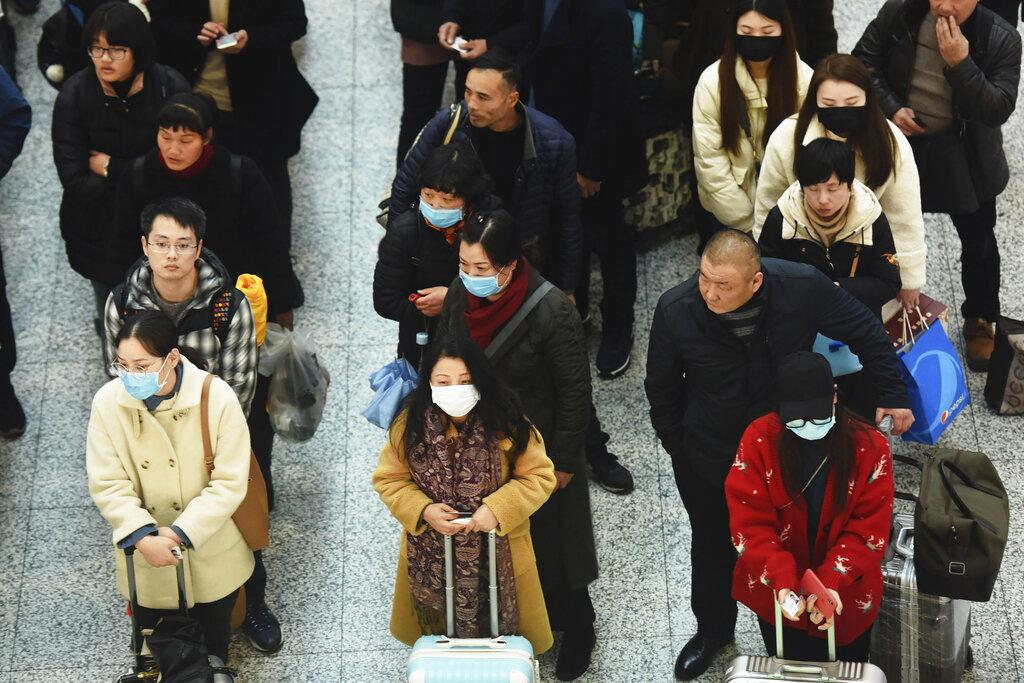mask: (429, 368, 483, 422), (114, 351, 166, 400), (414, 186, 465, 232), (814, 90, 866, 135), (456, 252, 504, 297), (736, 21, 781, 64), (787, 412, 837, 442)
none: (145, 228, 198, 282), (696, 267, 744, 316), (157, 125, 205, 170), (462, 81, 504, 127), (91, 38, 132, 82), (804, 180, 848, 216)
